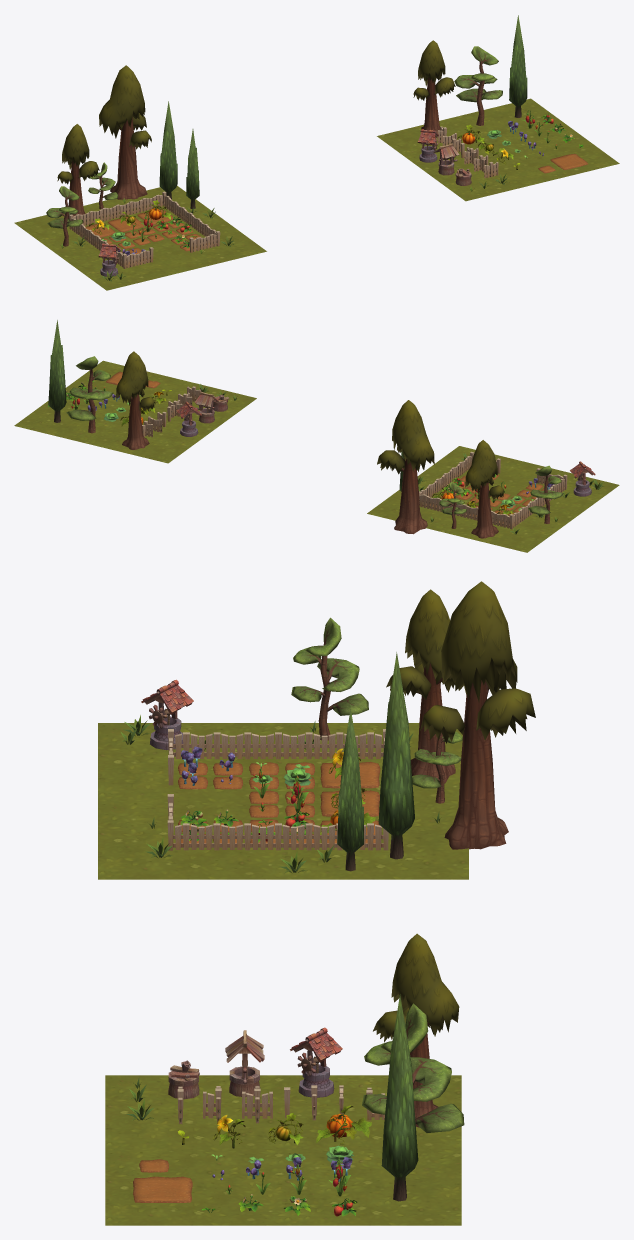
Rendered from Farm_plants.glb.
The picture shows the model from 3 angles, top to bottom: view 1: azimuth 30°, elevation 25°; view 2: azimuth 150°, elevation 25°; view 3: azimuth 270°, elevation 25°; orthographic projection. The views are drawn at different scales.
Visible parts, largest first — view 1: grass001_grass_0, grass_grass_0, bigTree001_bigTree_0, bigTree002_bigTree_0, bigTree_bigTree_0, forest_tree_005_15 - Default_0, forest_tree_006_15 - Default_0, forest_tree_003_15 - Default_0, forest_tree_2_15 - Default_0, forest_tree_1_15 - Default_0, well_004_well_0, well_3_well_0 (+3 smaller); view 2: grass001_grass_0, grass_grass_0, bigTree001_bigTree_0, bigTree_bigTree_0, bigTree002_bigTree_0, forest_tree_005_15 - Default_0, forest_tree_006_15 - Default_0, forest_tree_2_15 - Default_0, forest_tree_004_15 - Default_0, well_3_well_0, well_004_well_0, well_2_well_0; view 3: grass001_grass_0, grass_grass_0, bigTree001_bigTree_0, bigTree_bigTree_0, bigTree002_bigTree_0, forest_tree_006_15 - Default_0, forest_tree_003_15 - Default_0, forest_tree_005_15 - Default_0, forest_tree_2_15 - Default_0, forest_tree_1_15 - Default_0, well_004_well_0, well_3_well_0 (+6 smaller).
Boxes of the visible parts, bbox=[...] form: grass001_grass_0: bbox=[377, 98, 619, 201]; grass_grass_0: bbox=[14, 185, 266, 290]; bigTree001_bigTree_0: bbox=[99, 65, 151, 199]; bigTree002_bigTree_0: bbox=[413, 40, 455, 137]; bigTree_bigTree_0: bbox=[57, 124, 99, 218]; forest_tree_005_15 - Default_0: bbox=[454, 46, 502, 125]; forest_tree_006_15 - Default_0: bbox=[509, 15, 527, 117]; forest_tree_003_15 - Default_0: bbox=[159, 101, 177, 199]; forest_tree_2_15 - Default_0: bbox=[46, 186, 82, 246]; forest_tree_1_15 - Default_0: bbox=[186, 129, 199, 208]; well_004_well_0: bbox=[417, 129, 438, 162]; well_3_well_0: bbox=[98, 243, 119, 276]; grass001_grass_0: bbox=[14, 360, 256, 463]; grass_grass_0: bbox=[367, 446, 619, 552]; bigTree001_bigTree_0: bbox=[377, 400, 434, 534]; bigTree_bigTree_0: bbox=[465, 440, 504, 538]; bigTree002_bigTree_0: bbox=[116, 351, 155, 449]; forest_tree_005_15 - Default_0: bbox=[66, 356, 113, 433]; forest_tree_006_15 - Default_0: bbox=[48, 320, 66, 422]; forest_tree_2_15 - Default_0: bbox=[528, 465, 563, 523]; forest_tree_004_15 - Default_0: bbox=[439, 482, 466, 528]; well_3_well_0: bbox=[570, 461, 595, 496]; well_004_well_0: bbox=[176, 401, 201, 436]; well_2_well_0: bbox=[194, 391, 218, 423]; grass001_grass_0: bbox=[105, 1075, 461, 1225]; grass_grass_0: bbox=[98, 723, 468, 879]; bigTree001_bigTree_0: bbox=[420, 581, 535, 849]; bigTree_bigTree_0: bbox=[386, 589, 461, 783]; bigTree002_bigTree_0: bbox=[373, 933, 459, 1127]; forest_tree_006_15 - Default_0: bbox=[381, 994, 418, 1201]; forest_tree_003_15 - Default_0: bbox=[378, 652, 414, 859]; forest_tree_005_15 - Default_0: bbox=[362, 1003, 464, 1132]; forest_tree_2_15 - Default_0: bbox=[291, 617, 368, 740]; forest_tree_1_15 - Default_0: bbox=[337, 709, 363, 871]; well_004_well_0: bbox=[290, 1027, 342, 1097]; well_3_well_0: bbox=[141, 679, 193, 750].
Bounding box in the file's own units: 1931 × 467 × 711.
Materials: 13 (13 with a texture image).
